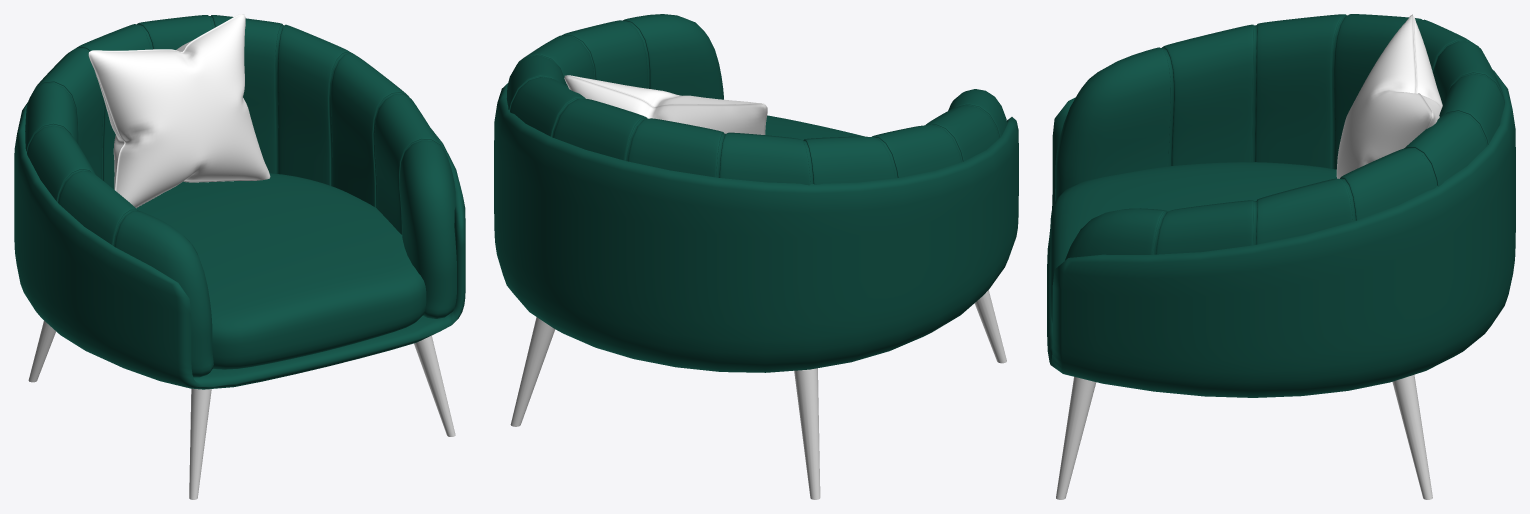
File: sofa_chair.glb
The picture shows the model from 3 angles, left to right: view 1: azimuth 30°, elevation 25°; view 2: azimuth 150°, elevation 25°; view 3: azimuth 270°, elevation 25°; orthographic projection. The views are drawn at different scales.
Visible parts, largest first — view 1: Cube.001_3, Cube.002_4, Cube_2, Plane_6, Cylinder_5; view 2: Cube_2, Cube.001_3, Plane_6, Cylinder_5, Cube.002_4; view 3: Cube_2, Cube.001_3, Cube.002_4, Plane_6, Cylinder_5.
Boxes of the visible parts, box(x1,y1,x2,y2) form: Cube.001_3: box(25, 15, 456, 377); Cube.002_4: box(136, 173, 426, 369); Cube_2: box(14, 102, 465, 389); Plane_6: box(88, 14, 270, 208); Cylinder_5: box(28, 320, 455, 499); Cube_2: box(494, 83, 1018, 372); Cube.001_3: box(506, 14, 1007, 185); Plane_6: box(564, 75, 767, 134); Cylinder_5: box(510, 290, 1006, 499); Cube.002_4: box(765, 115, 864, 140); Cube_2: box(1047, 69, 1515, 397); Cube.001_3: box(1055, 14, 1504, 260); Cube.002_4: box(1050, 162, 1336, 322); Plane_6: box(1336, 14, 1442, 178); Cylinder_5: box(1056, 375, 1432, 499).
Bounding box in the file's own units: 1.69 × 1.39 × 1.6.
